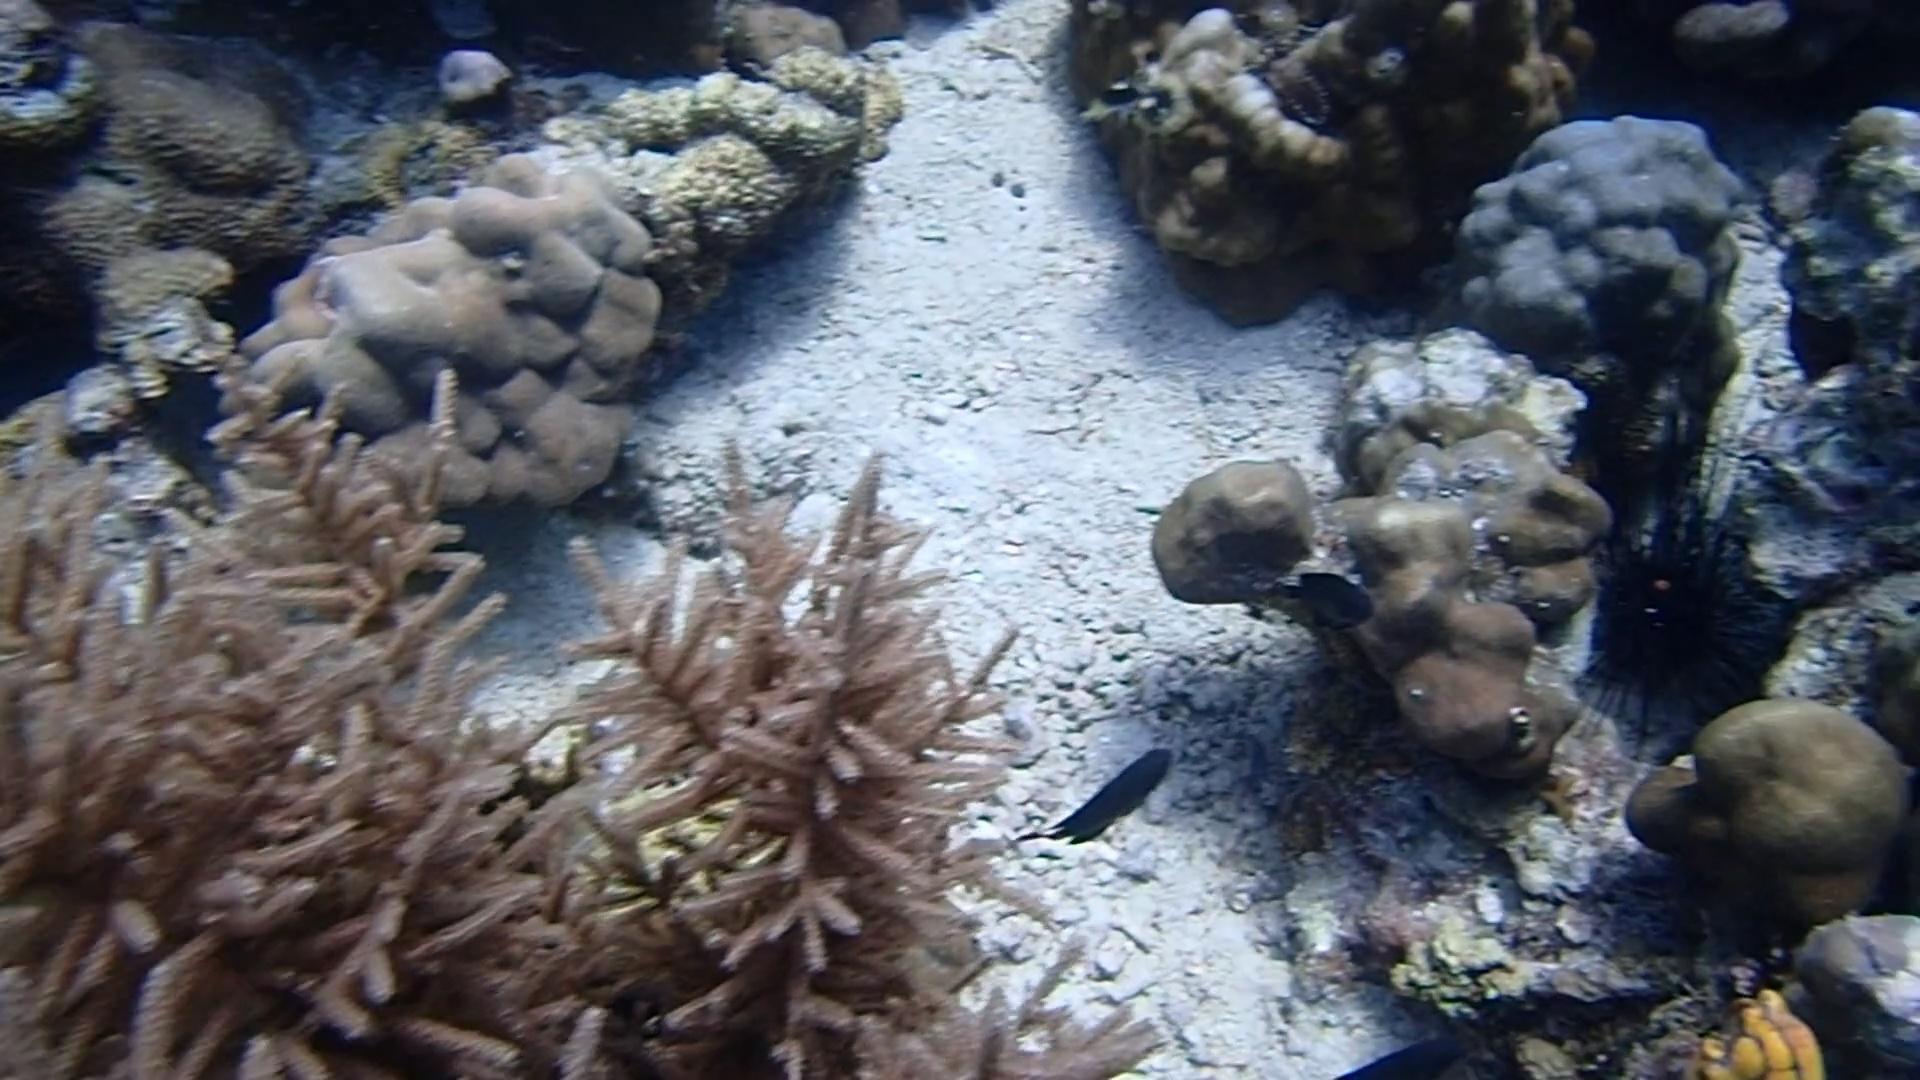Dark Fish: (1011, 738, 1179, 847), (1274, 562, 1382, 642), (1335, 1031, 1468, 1080)
Yellow Tail: (1076, 76, 1147, 129)
